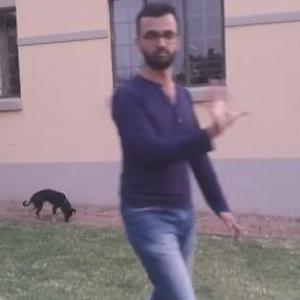follow_hand: (198, 71, 251, 130)
